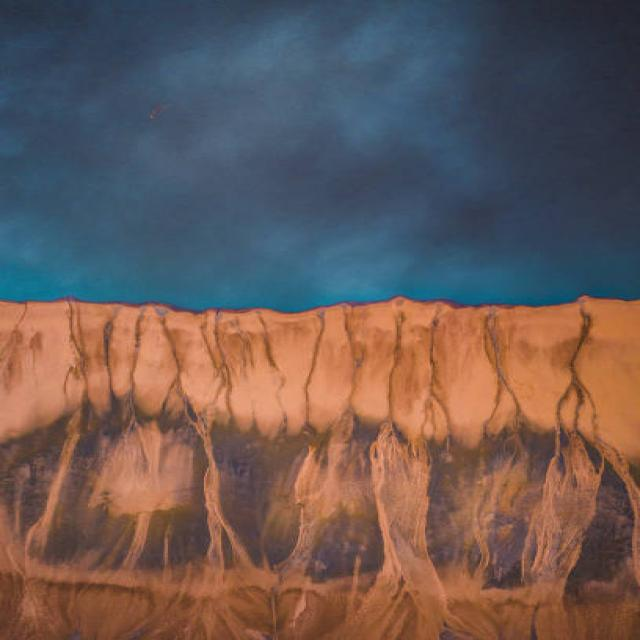Sedimentary: (1, 295, 640, 639)
